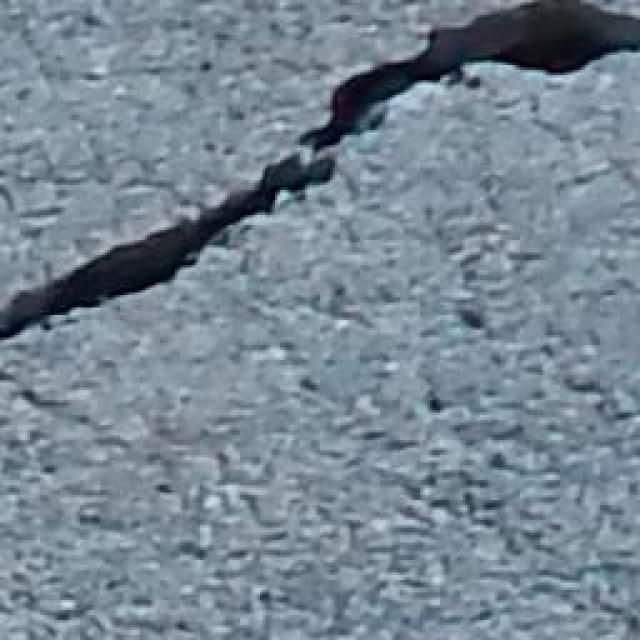concrete-crack: (0, 0, 640, 346)
